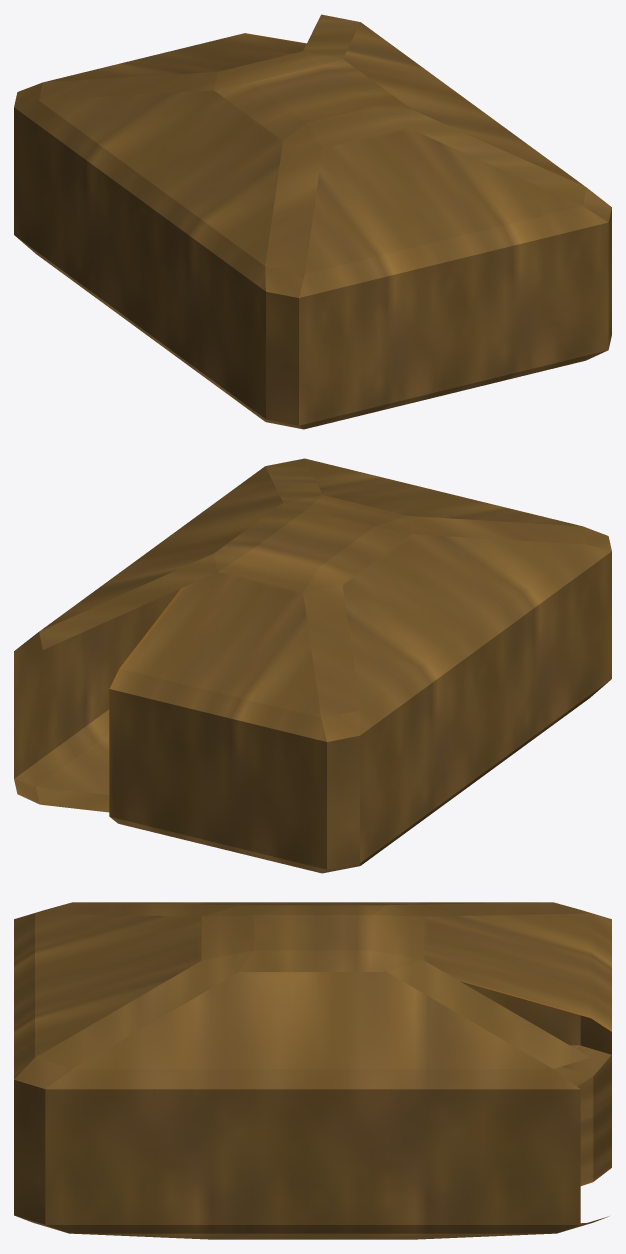
Rendered from Emerald.obj.
3 renders of one model, top to bottom at view 1: azimuth 30°, elevation 25°; view 2: azimuth 150°, elevation 25°; view 3: azimuth 270°, elevation 25°, orthographic. The views are drawn at different scales.
Bounding box in the file's own units: 0.4718 × 0.3343 × 0.6647.
